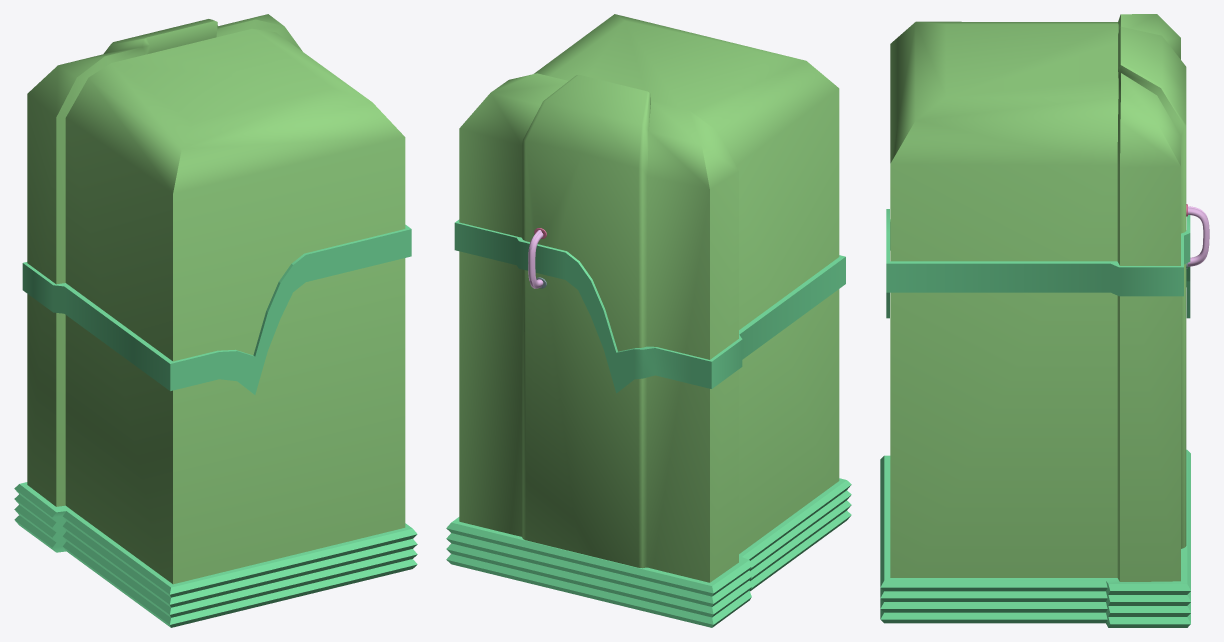
3 renders of one model, left to right at view 1: azimuth 30°, elevation 25°; view 2: azimuth 150°, elevation 25°; view 3: azimuth 270°, elevation 25°, orthographic. The views are drawn at different scales.
Visible parts, largest first — view 1: Object_2.004, split_parent_3; view 2: Object_2.004, split_parent_3; view 3: Object_2.004, split_parent_3, Object_2.130.
Boxes of the visible parts, left/top/right/bottom form: Object_2.004: left=27, top=14, right=405, bottom=584; split_parent_3: left=14, top=224, right=417, bottom=627; Object_2.004: left=459, top=14, right=839, bottom=582; split_parent_3: left=446, top=219, right=851, bottom=627; Object_2.004: left=890, top=14, right=1186, bottom=581; split_parent_3: left=880, top=209, right=1190, bottom=627; Object_2.130: left=1188, top=206, right=1209, bottom=266.
Size of the model in its own units: 0.5711 by 1 by 0.5774.
